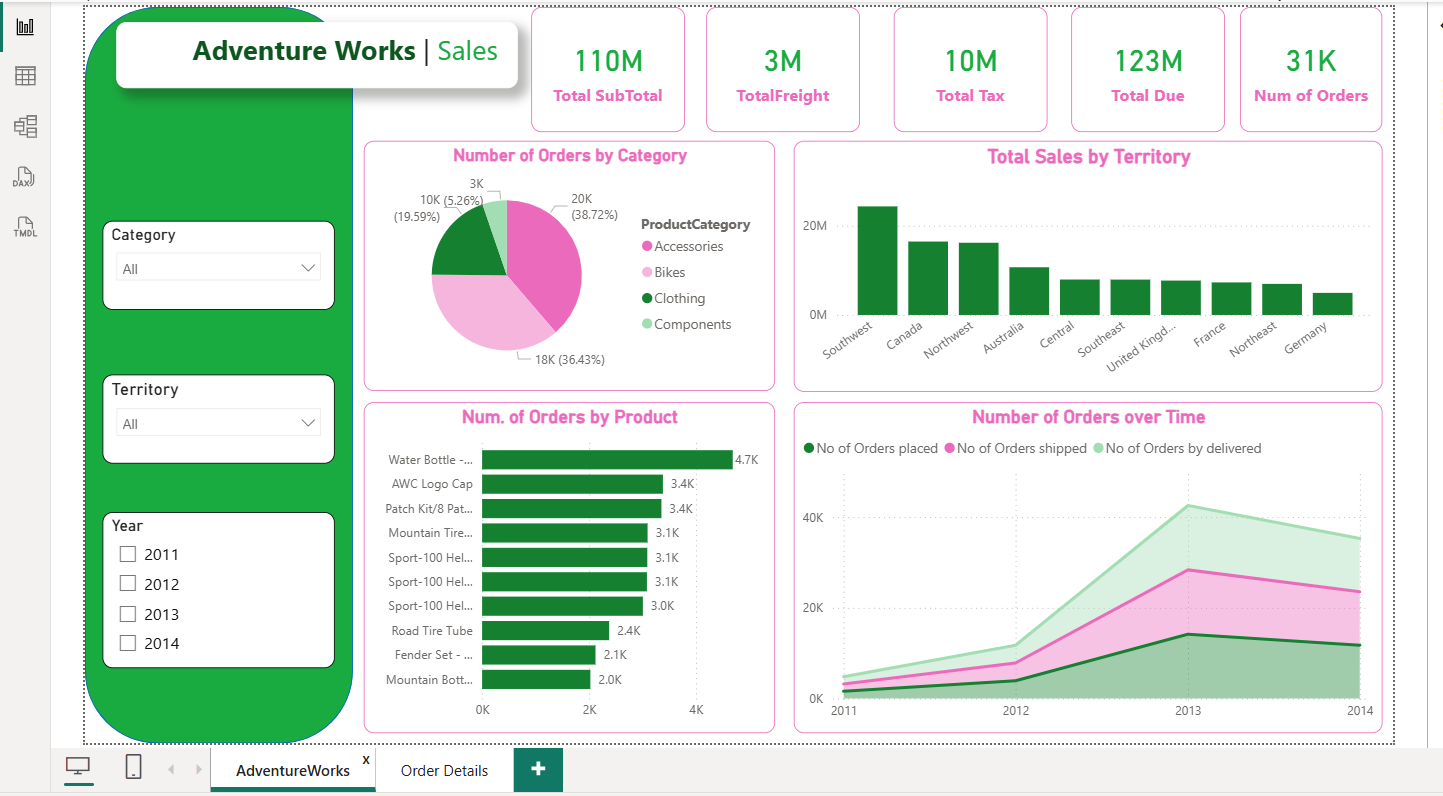

The dashboard page shown, as its layout file describes it:
{"tool":"powerbi","page":{"name":"AdventureWorks","canvas":[1280,720],"ordinal":0},"visuals":[{"type":"shape","box":[0,0,262.1,720.4],"z":0},{"type":"textbox","title":"AdventureWorks | Sales","box":[30.6,14.7,392.5,64.8],"z":1000},{"type":"card","fields":{"Values":["DAXMeasures.Total Sub total"]},"box":[436.6,0,150.4,122.3],"z":2000},{"type":"card","fields":{"Values":["DAXMeasures.TotalFreight"]},"box":[607.7,0,150.4,122.3],"z":3000},{"type":"card","fields":{"Values":["DAXMeasures.Total Tax"]},"box":[791.2,0,150.4,122.3],"z":4000},{"type":"card","fields":{"Values":["DAXMeasures.Total Due"]},"box":[964.8,0,150.4,122.3],"z":5000},{"type":"card","fields":{"Values":["DAXMeasures.# Orders"]},"box":[1129.9,0,139.4,122.3],"z":6000},{"type":"pieChart","title":"Number of Orders by Category","fields":{"Y":["DAXMeasures.Num of Orders"],"Category":["Dim_Product.ProductCategory"]},"box":[272.7,130.8,402.3,244.6],"z":7000},{"type":"barChart","title":"Num. of Orders by Product","fields":{"Category":["Dim_Product.Product"],"Y":["DAXMeasures.Num of Orders"]},"box":[273.1,387,402.1,323.8],"z":8000},{"type":"columnChart","title":"Total Sales by Territory","fields":{"Y":["DAXMeasures.Total SubTotal"],"Category":["Dim_Territory.Territory"]},"box":[693,130.4,576.3,245.6],"z":8001},{"type":"stackedAreaChart","title":"Number of Orders over Time","fields":{"Y":["DAXMeasures.No. of Orders by Order Date","DAXMeasures.No. of Orders by Ship Date","DAXMeasures.No. of Orders by Order Due Date"],"Category":["DimDate.Date.Variation.Date Hierarchy.Year","DimDate.Date.Variation.Date Hierarchy.Month"]},"box":[693,387,576,324],"z":8002},{"type":"slicer","title":"Category","fields":{"Values":["Dim_Product.ProductCategory"]},"box":[17.1,209.1,227.4,86.8],"z":8003},{"type":"slicer","title":"Territory","fields":{"Values":["Dim_Territory.Territory"]},"box":[17.1,359.5,227.4,86.8],"z":8004},{"type":"slicer","title":"Year","fields":{"Values":["DimDate.Date.Variation.Date Hierarchy.Year"]},"box":[17.1,494,227.4,152.9],"z":8005}]}

Visuals, with their boxes on the page's 1280x720 design canvas (x1, y1, x2, y2). These are canvas units, not pixel positions in the 1443x796 screenshot, which may show the page scaled, cropped or inside an application window:
shape: 0, 0, 262, 720
"AdventureWorks | Sales" textbox: 31, 15, 423, 80
card - DAXMeasures.Total Sub total: 437, 0, 587, 122
card - DAXMeasures.TotalFreight: 608, 0, 758, 122
card - DAXMeasures.Total Tax: 791, 0, 942, 122
card - DAXMeasures.Total Due: 965, 0, 1115, 122
card - DAXMeasures.# Orders: 1130, 0, 1269, 122
"Number of Orders by Category" pieChart: 273, 131, 675, 375
"Num. of Orders by Product" barChart: 273, 387, 675, 711
"Total Sales by Territory" columnChart: 693, 130, 1269, 376
"Number of Orders over Time" stackedAreaChart: 693, 387, 1269, 711
"Category" slicer: 17, 209, 244, 296
"Territory" slicer: 17, 360, 244, 446
"Year" slicer: 17, 494, 244, 647
